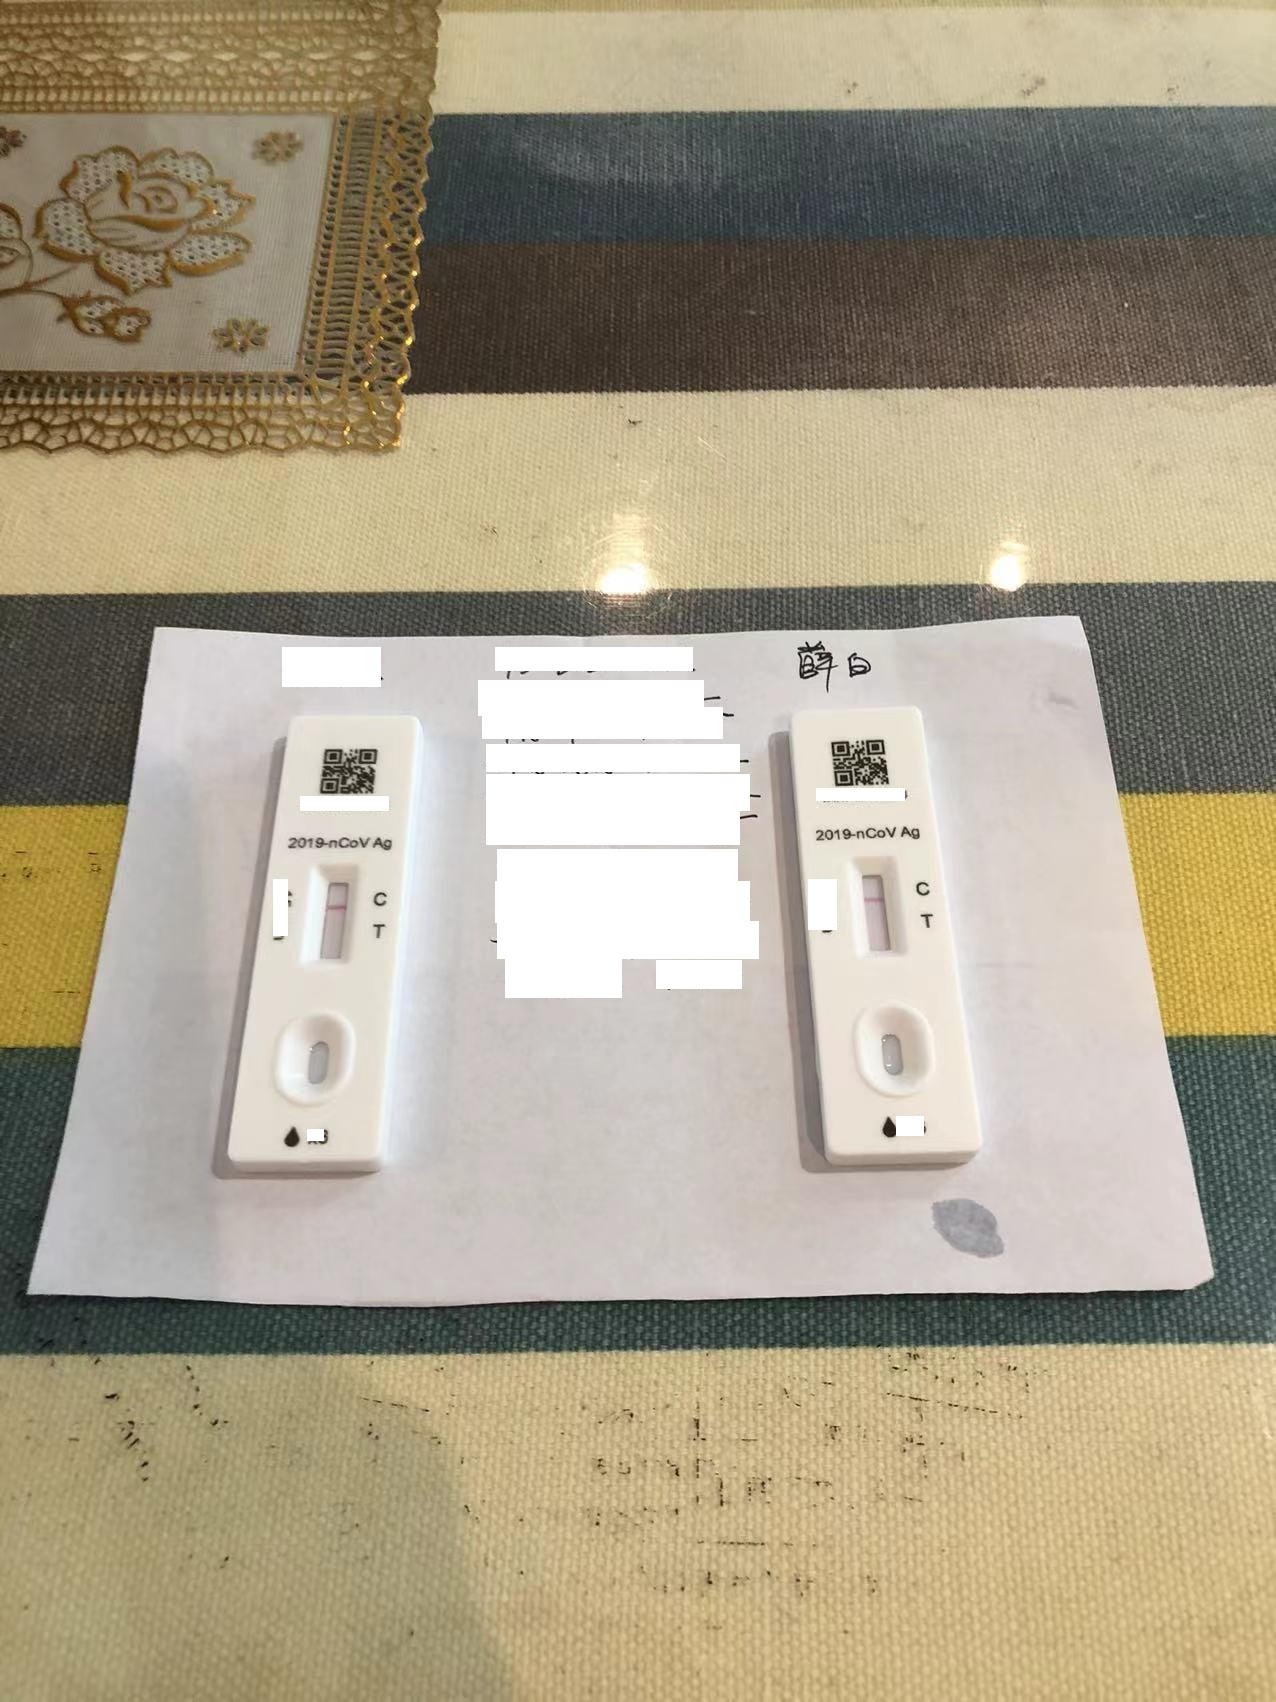negative: (310, 867, 355, 965), (856, 862, 898, 956)
